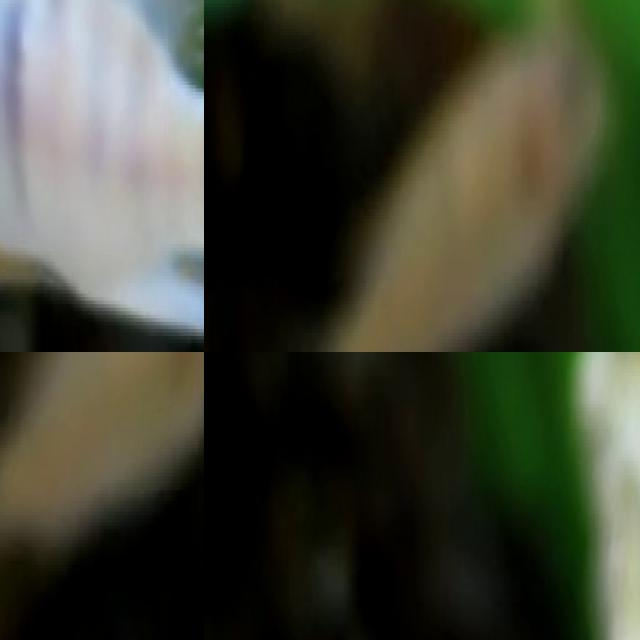fish: (0, 0, 204, 352), (0, 352, 204, 593)
